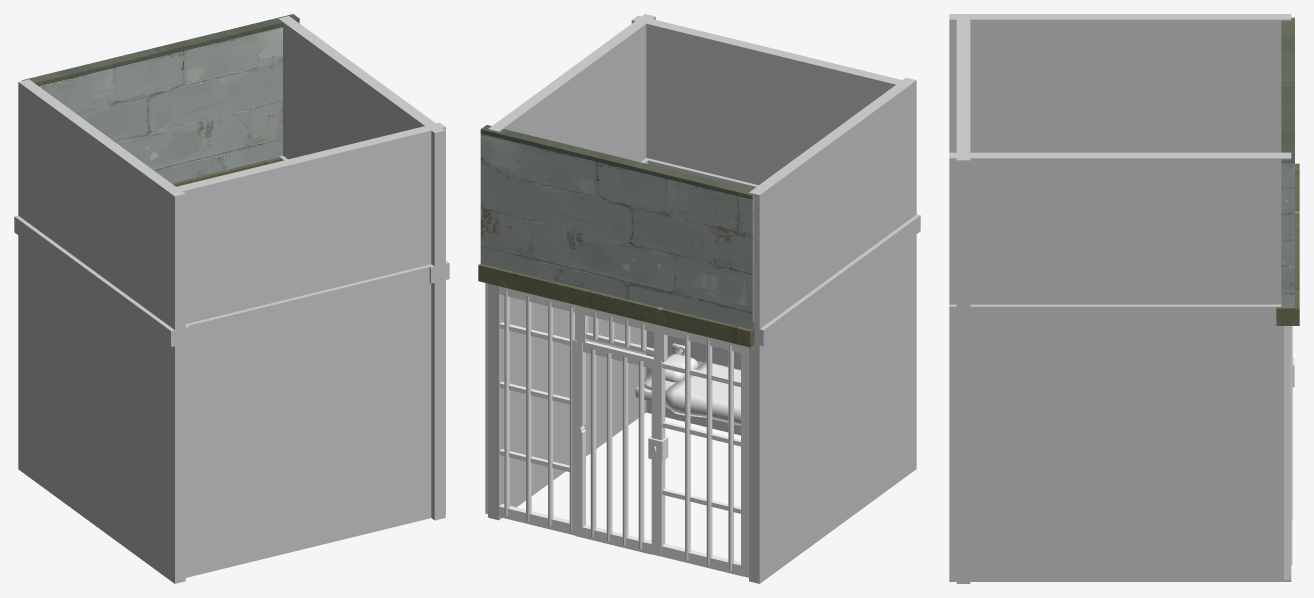
Rendered from PrisonCell.fbx.
3 views of the same model, side by side, from view 1: azimuth 30°, elevation 25°; view 2: azimuth 150°, elevation 25°; view 3: azimuth 270°, elevation 25° (orthographic). The views are drawn at different scales.
Parts seen in each view (by area): view 1: Wall_Medium__2_, Wall_Medium__1_, PrisonDoor, Wall_Medium; view 2: Wall_Medium__1_, PrisonDoor, Wall_Medium__2_, Wall_Medium, Door, P_Bed; view 3: Wall_Medium, Wall_Medium__1_, Wall_Medium__2_, PrisonDoor.
Boxes of the visible parts, x1=… form: Wall_Medium__2_: x1=176, y1=122, x2=447, y2=577; Wall_Medium__1_: x1=14, y1=79, x2=189, y2=583; PrisonDoor: x1=22, y1=14, x2=299, y2=186; Wall_Medium: x1=278, y1=16, x2=449, y2=520; Wall_Medium__1_: x1=749, y1=77, x2=920, y2=583; PrisonDoor: x1=478, y1=125, x2=754, y2=577; Wall_Medium__2_: x1=631, y1=15, x2=901, y2=435; Wall_Medium: x1=488, y1=14, x2=655, y2=520; Door: x1=572, y1=340, x2=668, y2=556; P_Bed: x1=635, y1=343, x2=740, y2=425; Wall_Medium: x1=949, y1=152, x2=1291, y2=581; Wall_Medium__1_: x1=949, y1=14, x2=1291, y2=152; Wall_Medium__2_: x1=951, y1=19, x2=975, y2=583; PrisonDoor: x1=1276, y1=17, x2=1299, y2=579.
Bounding box in the file's own units: 616 × 813 × 610.
4 materials, 1 textured.
